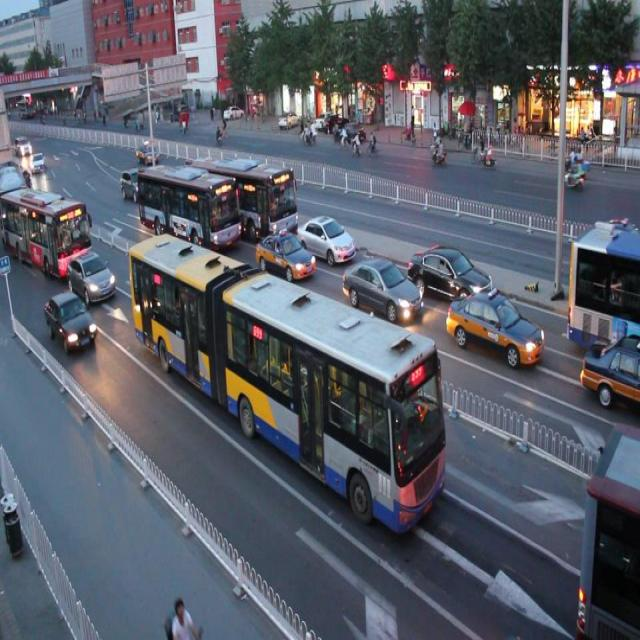car: (444, 288, 545, 369), (407, 242, 492, 310), (340, 258, 422, 324), (580, 331, 640, 406), (44, 290, 100, 355), (254, 227, 314, 283), (296, 213, 354, 268), (67, 250, 116, 302), (119, 164, 148, 206)
van: (126, 232, 447, 534), (578, 427, 640, 629), (191, 153, 299, 243), (567, 225, 640, 352), (138, 165, 241, 250), (1, 186, 92, 279)
